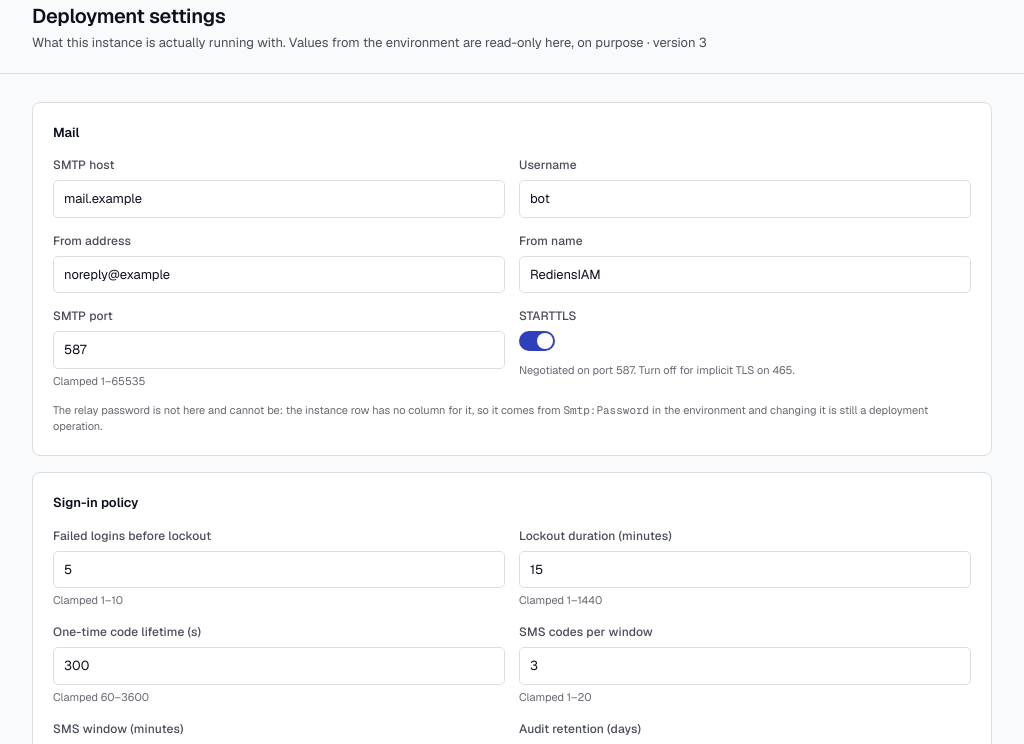
Test case: saving › repeats the server’s own refusal when there is one
Replace the text in the number field labelled "Lockout duration (minutes)" with "42". click: point(745, 570)
box: [519, 551, 971, 588]
(page scrolled)
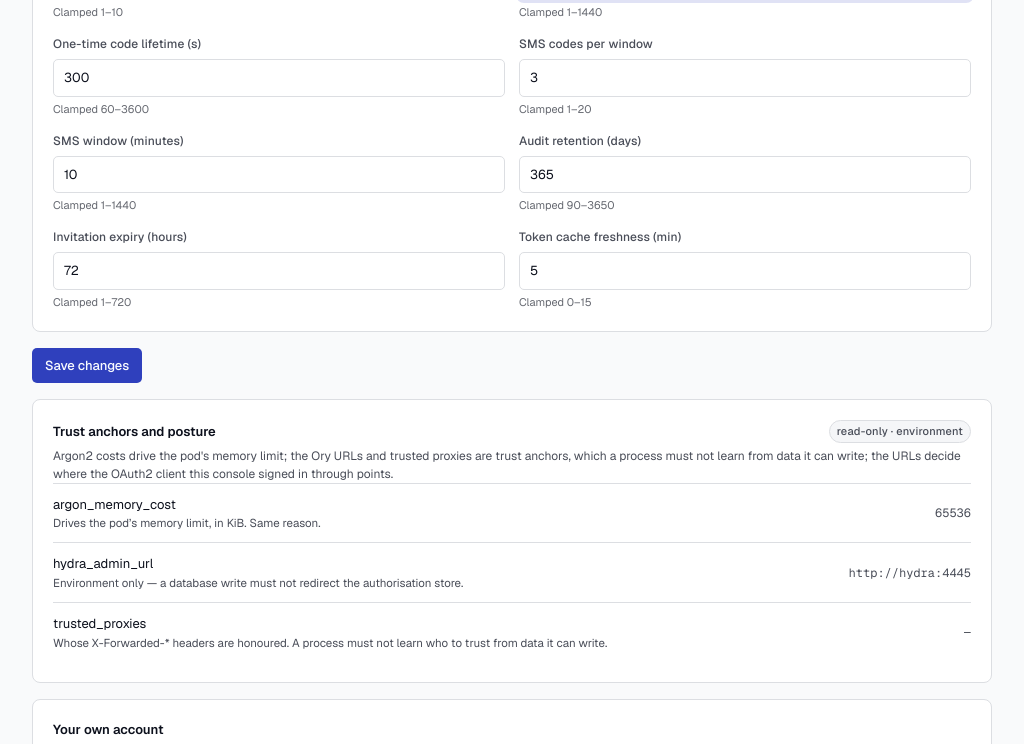
Click the button "Save changes". click: point(87, 365)
box: [32, 348, 142, 383]
(page scrolled)
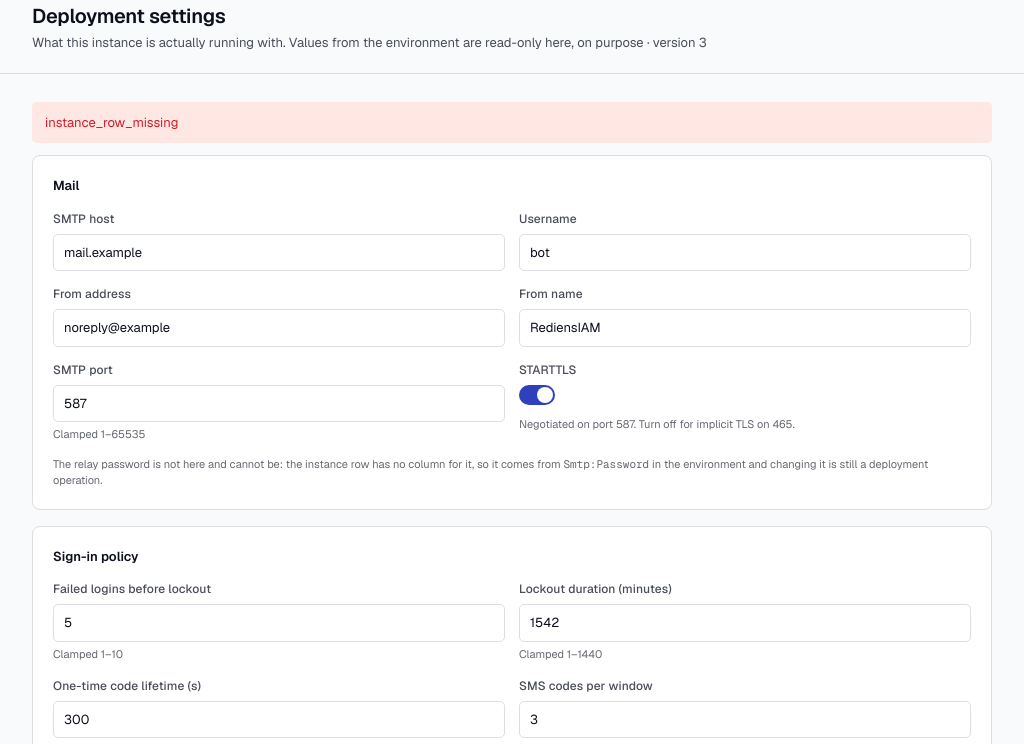
Expected: the text "instance_row_missing" is shown, [32, 102, 992, 143]
